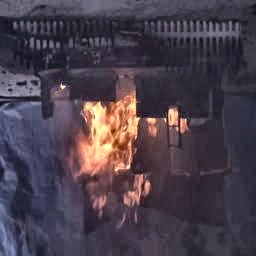fire: (64, 103, 154, 221)
